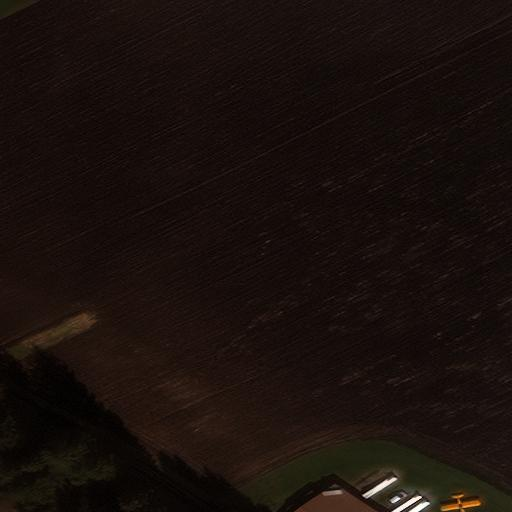Small Civil Transport: (440, 494, 480, 512)
